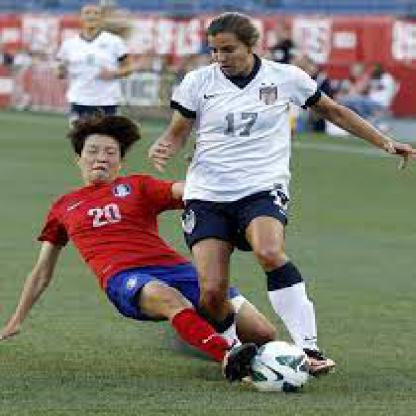Fall_Down: (0, 118, 278, 380)
